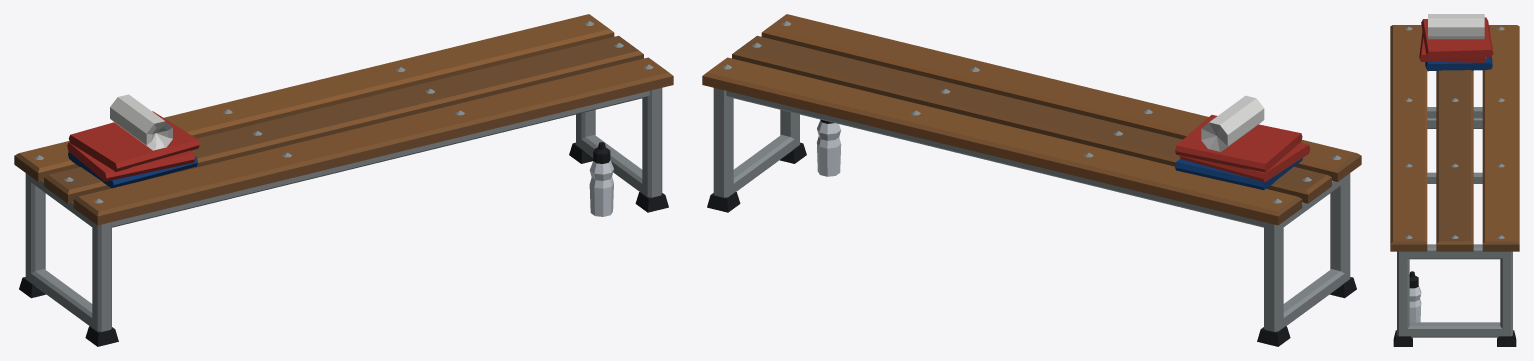
File: substitutes-bench-ea0ef7.glb
3 views of the same model, side by side, from view 1: azimuth 30°, elevation 25°; view 2: azimuth 150°, elevation 25°; view 3: azimuth 270°, elevation 25° (orthographic). The views are drawn at different scales.
Parts seen in each view (by area): view 1: bench, bibs-mesh, towel-mesh, bottle-mesh; view 2: bench, bibs-mesh, towel-mesh, bottle-mesh; view 3: bench, bibs-mesh, towel-mesh, bottle-mesh.
Boxes of the visible parts, <box> form: bench: <box>14,14,673,346</box>; bibs-mesh: <box>67,111,199,188</box>; towel-mesh: <box>110,94,172,150</box>; bottle-mesh: <box>589,142,613,216</box>; bench: <box>702,14,1361,346</box>; bibs-mesh: <box>1175,115,1310,190</box>; towel-mesh: <box>1201,95,1264,151</box>; bottle-mesh: <box>817,119,841,176</box>; bench: <box>1390,25,1519,346</box>; bibs-mesh: <box>1419,17,1493,71</box>; towel-mesh: <box>1428,14,1484,39</box>; bottle-mesh: <box>1409,271,1421,322</box>.
Size of the model in its own units: 2 by 0.6234 by 0.5.
